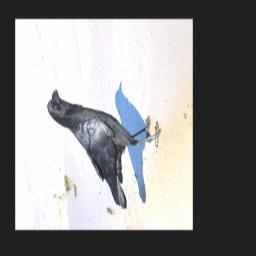Crow: (47, 88, 163, 211)
